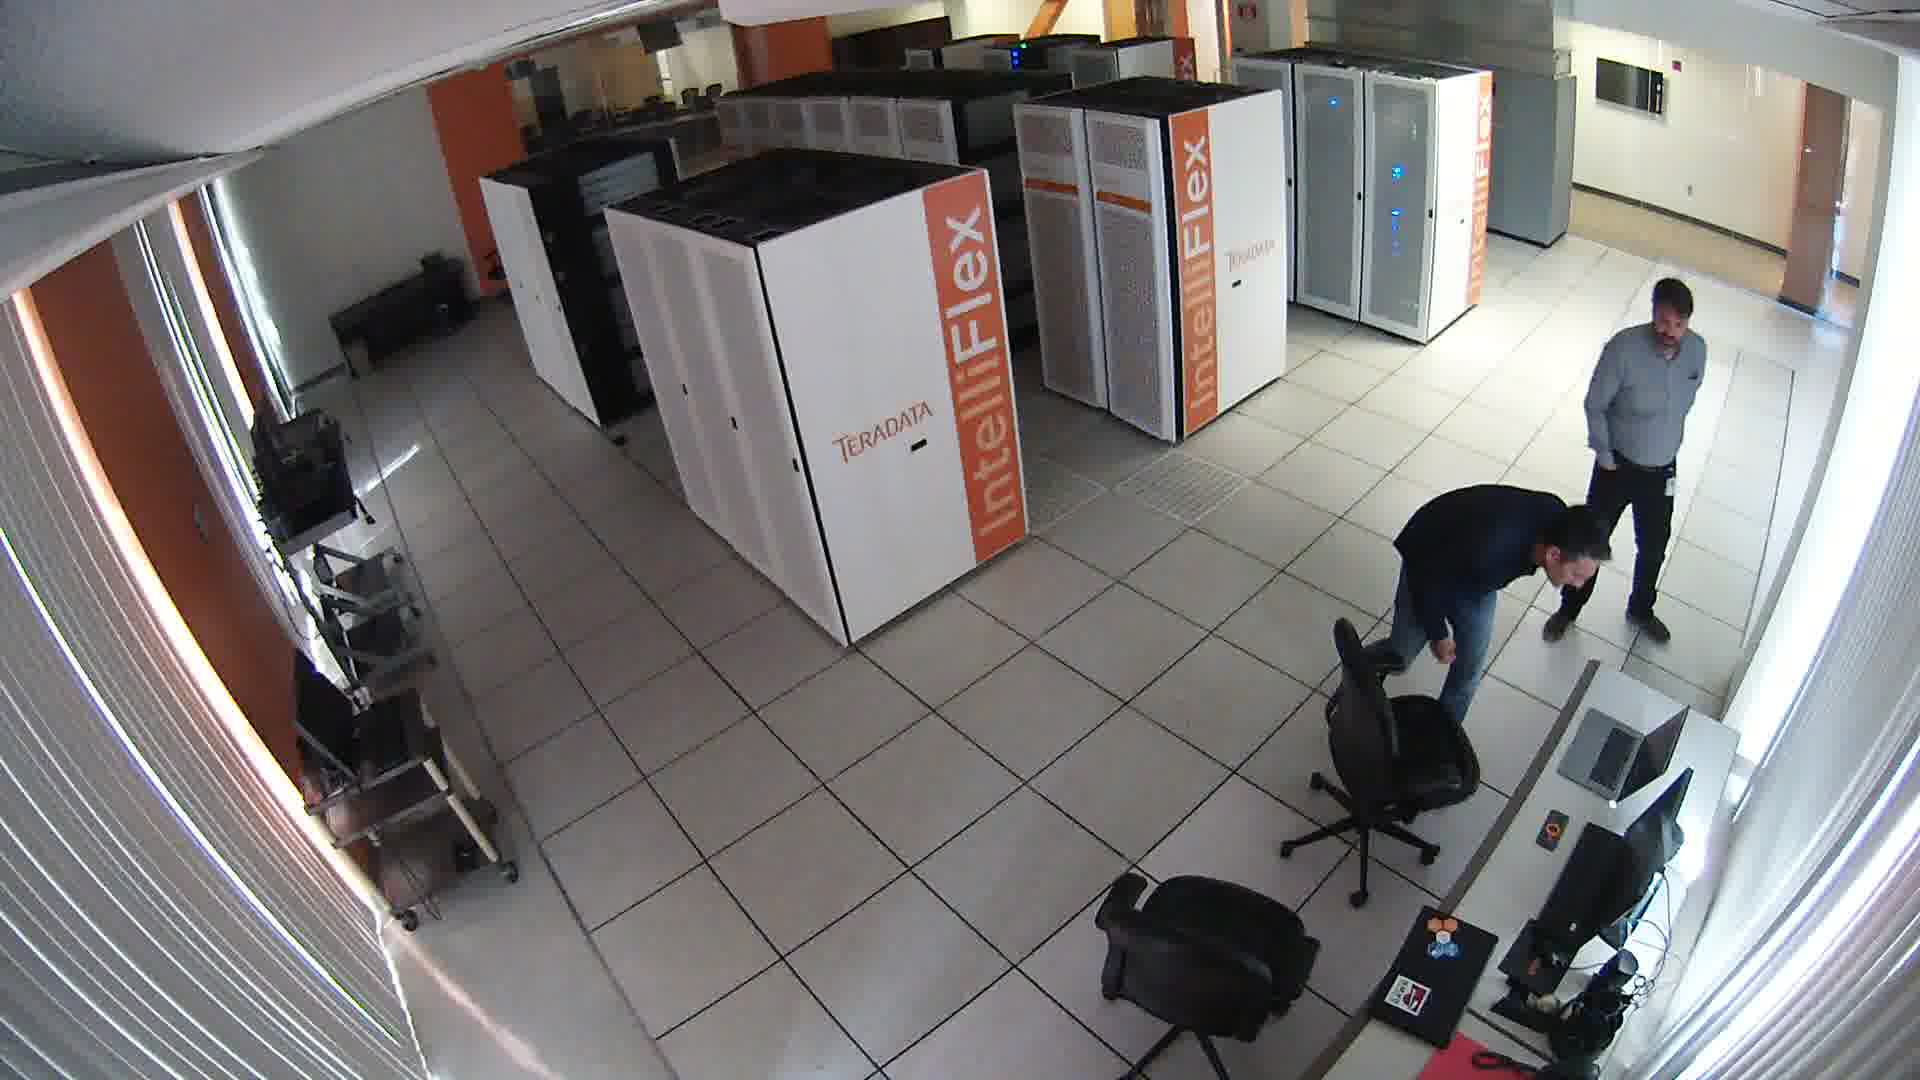person: (1329, 456, 1606, 752), (1566, 261, 1754, 688)
